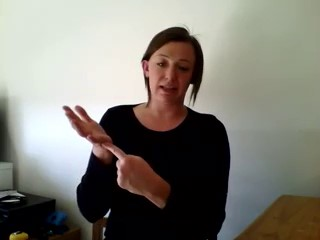T: (58, 100, 156, 199)
